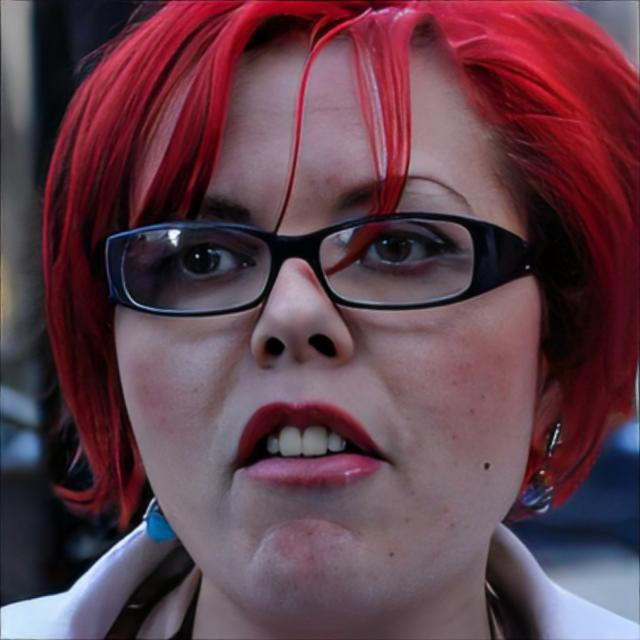disgust: (112, 27, 542, 636)
